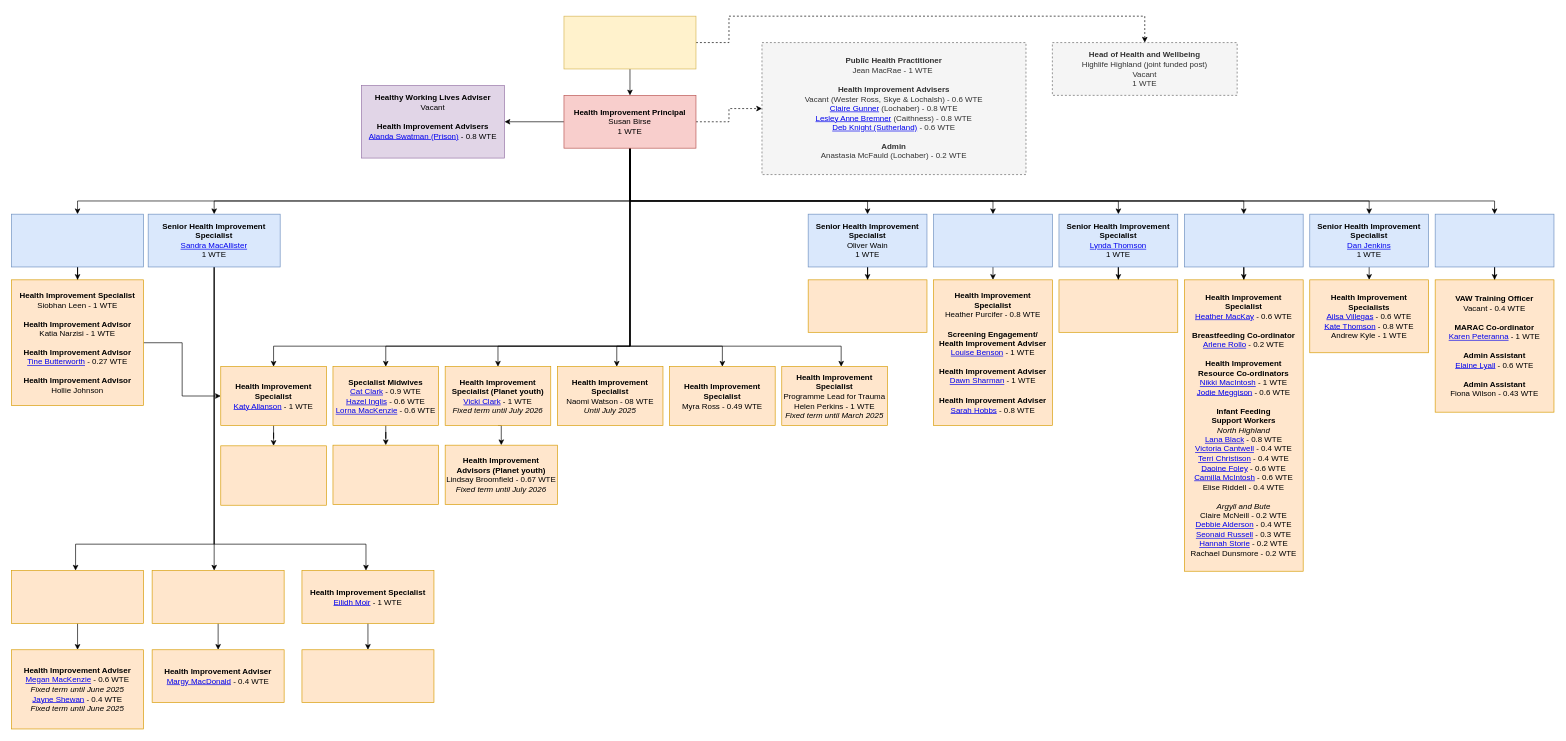
Some shapes in this 1566 by 741 pixel diagram are drawn without their labels. The centre of each missing label's shape, as x and y in pixels:
"Admin Assistant Bradon Hadley - 1 WTE (Managed by Cat Clark)" belongs at [385,475].
"Head of Health Improvement Cathy Steer 1 WTE" belongs at [629,42].
"Health Improvement Adviser Jenny Cargill - 0.53 WTE" belongs at [367,676].
"Health Improvement Advisers Gillian Hornby - 0.53 WTE Cass Watson - 1 WTE" belongs at [273,475].
"Health Improvement Specialist Barry Collard - 0.9 WTE" belongs at [867,305].
"Health Improvement Specialist Fiona MacLeod - 1 WTE" belongs at [77,596].
"Health Improvement Specialist Maggie Hume - 1 WTE" belongs at [1118,305].
"Health Improvement Specialist Sarah MacKenzie - 0.91 WTE" belongs at [217,596].
"Senior Health Improvement Specialist Claire Wallace 0.6 WTE" belongs at [77,240].
"Senior Health Improvement Specialist Jane Chandler 1 WTE" belongs at [992,240].
"Senior Health Improvement Specialist Karen Mackay 1 WTE" belongs at [1243,240].
"VAW Training & Development Manager Catherine Russell 0.8 WTE" belongs at [1494,240].
